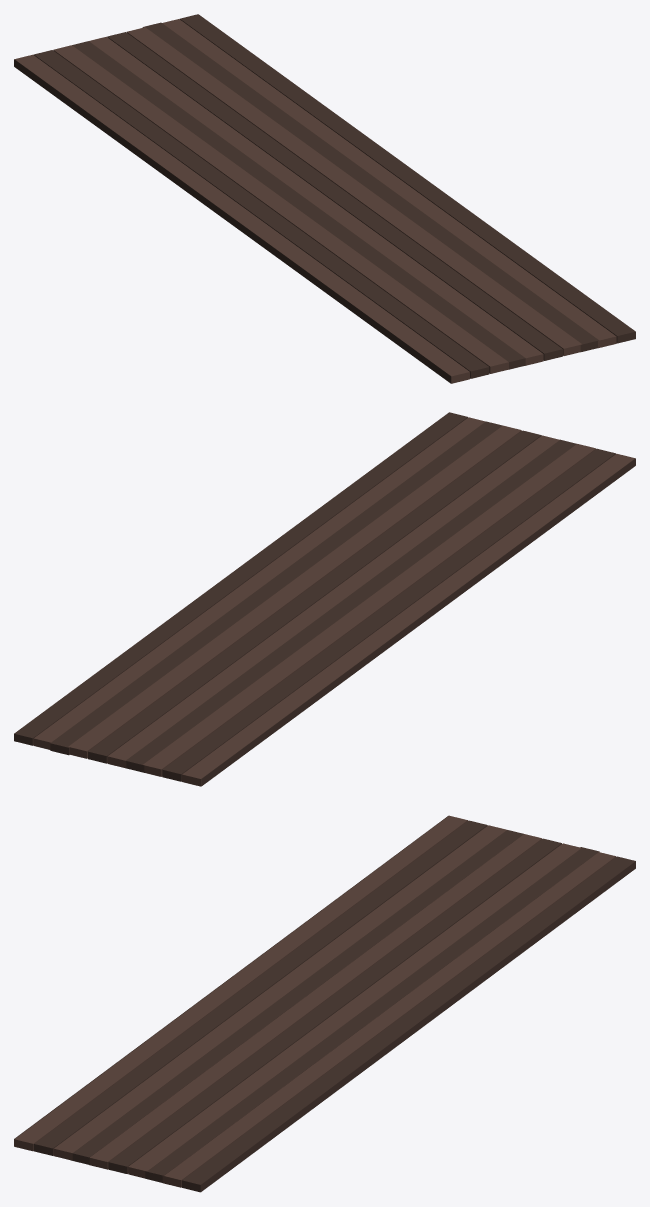
Rendered from floor.fbx.
3 renders of one model, top to bottom at view 1: azimuth 30°, elevation 25°; view 2: azimuth 150°, elevation 25°; view 3: azimuth 330°, elevation 25°, orthographic.
Visible parts, largest first — view 1: Cube.707; view 2: Cube.707; view 3: Cube.707.
Part boxes in pixels (box(x1,y1,x2,y2)): Cube.707: box(14, 14, 635, 383); Cube.707: box(14, 412, 635, 786); Cube.707: box(14, 815, 635, 1192).
Bounding box in the file's own units: 79.46 × 3.57 × 317.
